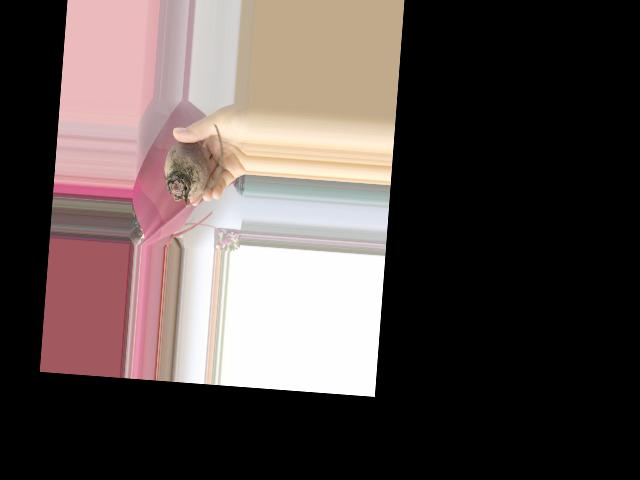beet: (161, 120, 225, 210)
